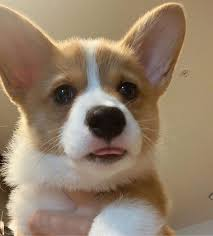dog: (1, 5, 191, 196)
